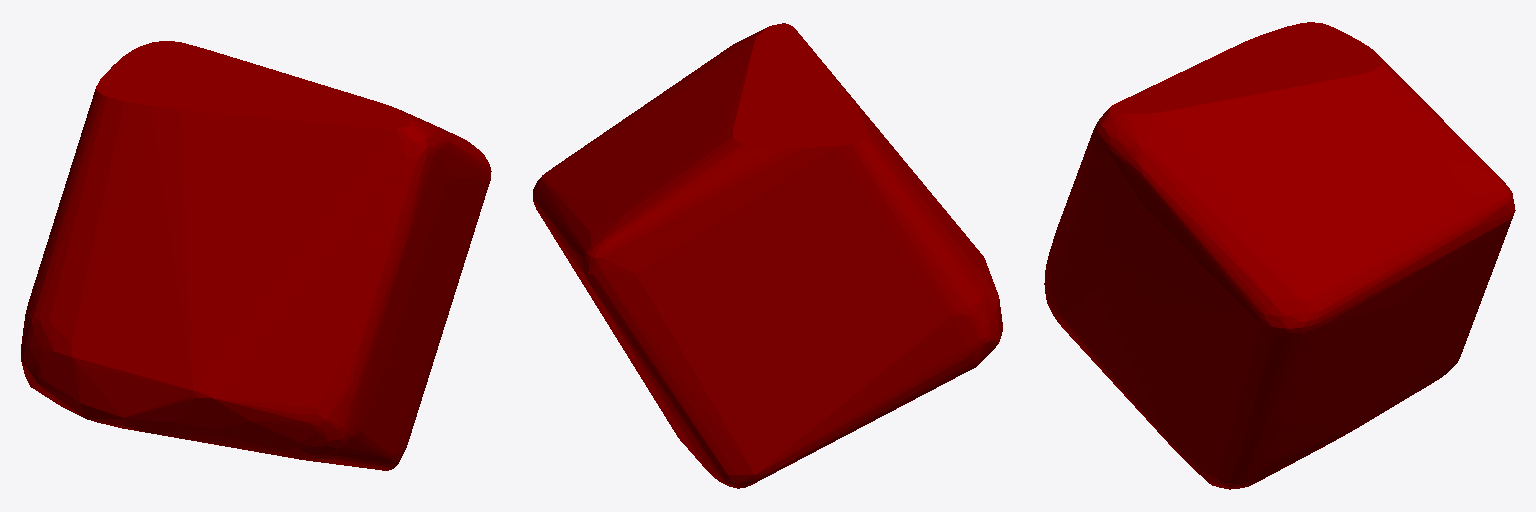
The robot description file, URDF, robot "cube":
<?xml version="1.0"?>
<robot name="cube" xmlns:drake="https://drake.mit.edu/">
    <link name="body">
        <inertial>
            <origin xyz="0 0 0" rpy="0 0 0"/>
            <mass value="0.37" />
            <inertia
                ixx="0.00081"
                ixy="0"
                ixz="0"
                iyy="0.00081"
                iyz="0"
                izz="0.00081"/>
        </inertial>
        <visual>
            <origin xyz="0 0 0" rpy="0 0 0" />
            <geometry>
                <mesh filename="mesh_all_tosses_convex_hull_with_normals.obj"/>
            </geometry>
            <material name="pennred">
                <color rgba="0.6 0 0 1.0" />
            </material>
        </visual>
        <collision>
            <geometry>
                <mesh filename="mesh_all_tosses_convex_hull_with_normals.obj"/>
            </geometry>
            <origin xyz="0 0 0" rpy="0 0 0" />
            <drake:proximity_properties>
                <drake:mu_static value="0.15" />
            </drake:proximity_properties>
        </collision>
    </link>
</robot>

--- What the picture shows (computed from the rendered views, not written in the file) ---
3 views of the same robot in one strip: view 1: azimuth 30°, elevation 25°; view 2: azimuth 150°, elevation 25°; view 3: azimuth 270°, elevation 25° (orthographic).
Model cube with 1 links and 0 joints (none), rooted at body, posed every joint at zero.
Links seen in each view (by area): view 1: body; view 2: body; view 3: body.
Link boxes in pixels (<box>): body: <box>21,41,491,470</box>; body: <box>533,23,1002,488</box>; body: <box>1044,22,1515,489</box>.
Size in the robot's own frame: 0.1503 by 0.1399 by 0.1185 metres.
Meshes: 1 distinct files referenced, 1 mesh visuals loaded (1 OBJ).
